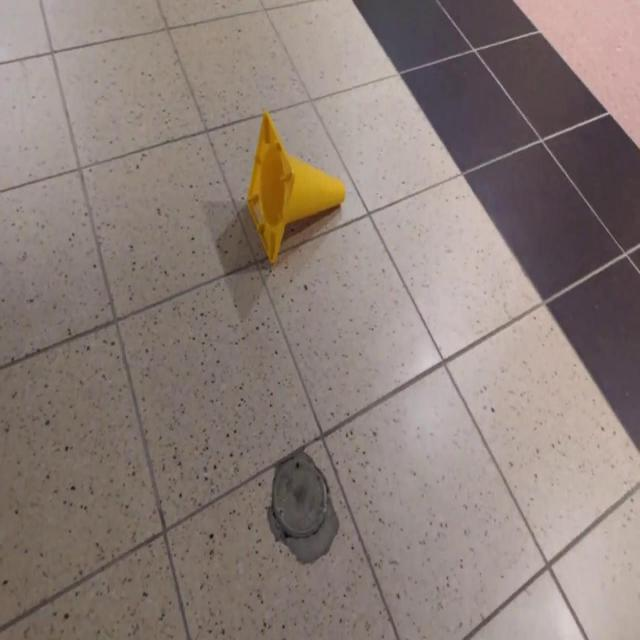frc_cone: (246, 110, 346, 271)
